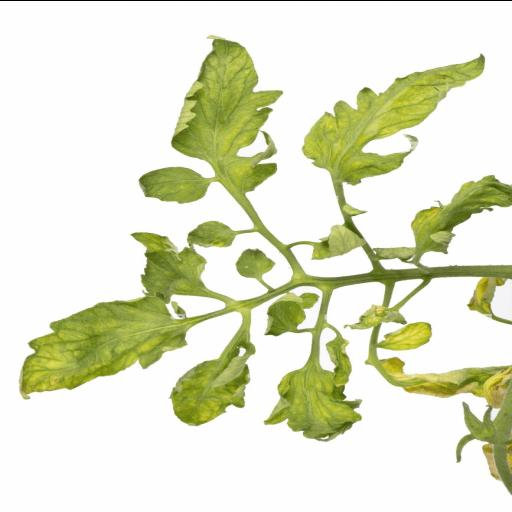disease_tomato: (300, 52, 488, 184), (168, 32, 286, 192), (15, 292, 189, 400), (366, 172, 512, 264), (261, 366, 367, 442), (169, 357, 253, 427), (130, 230, 209, 302), (374, 320, 434, 350)
